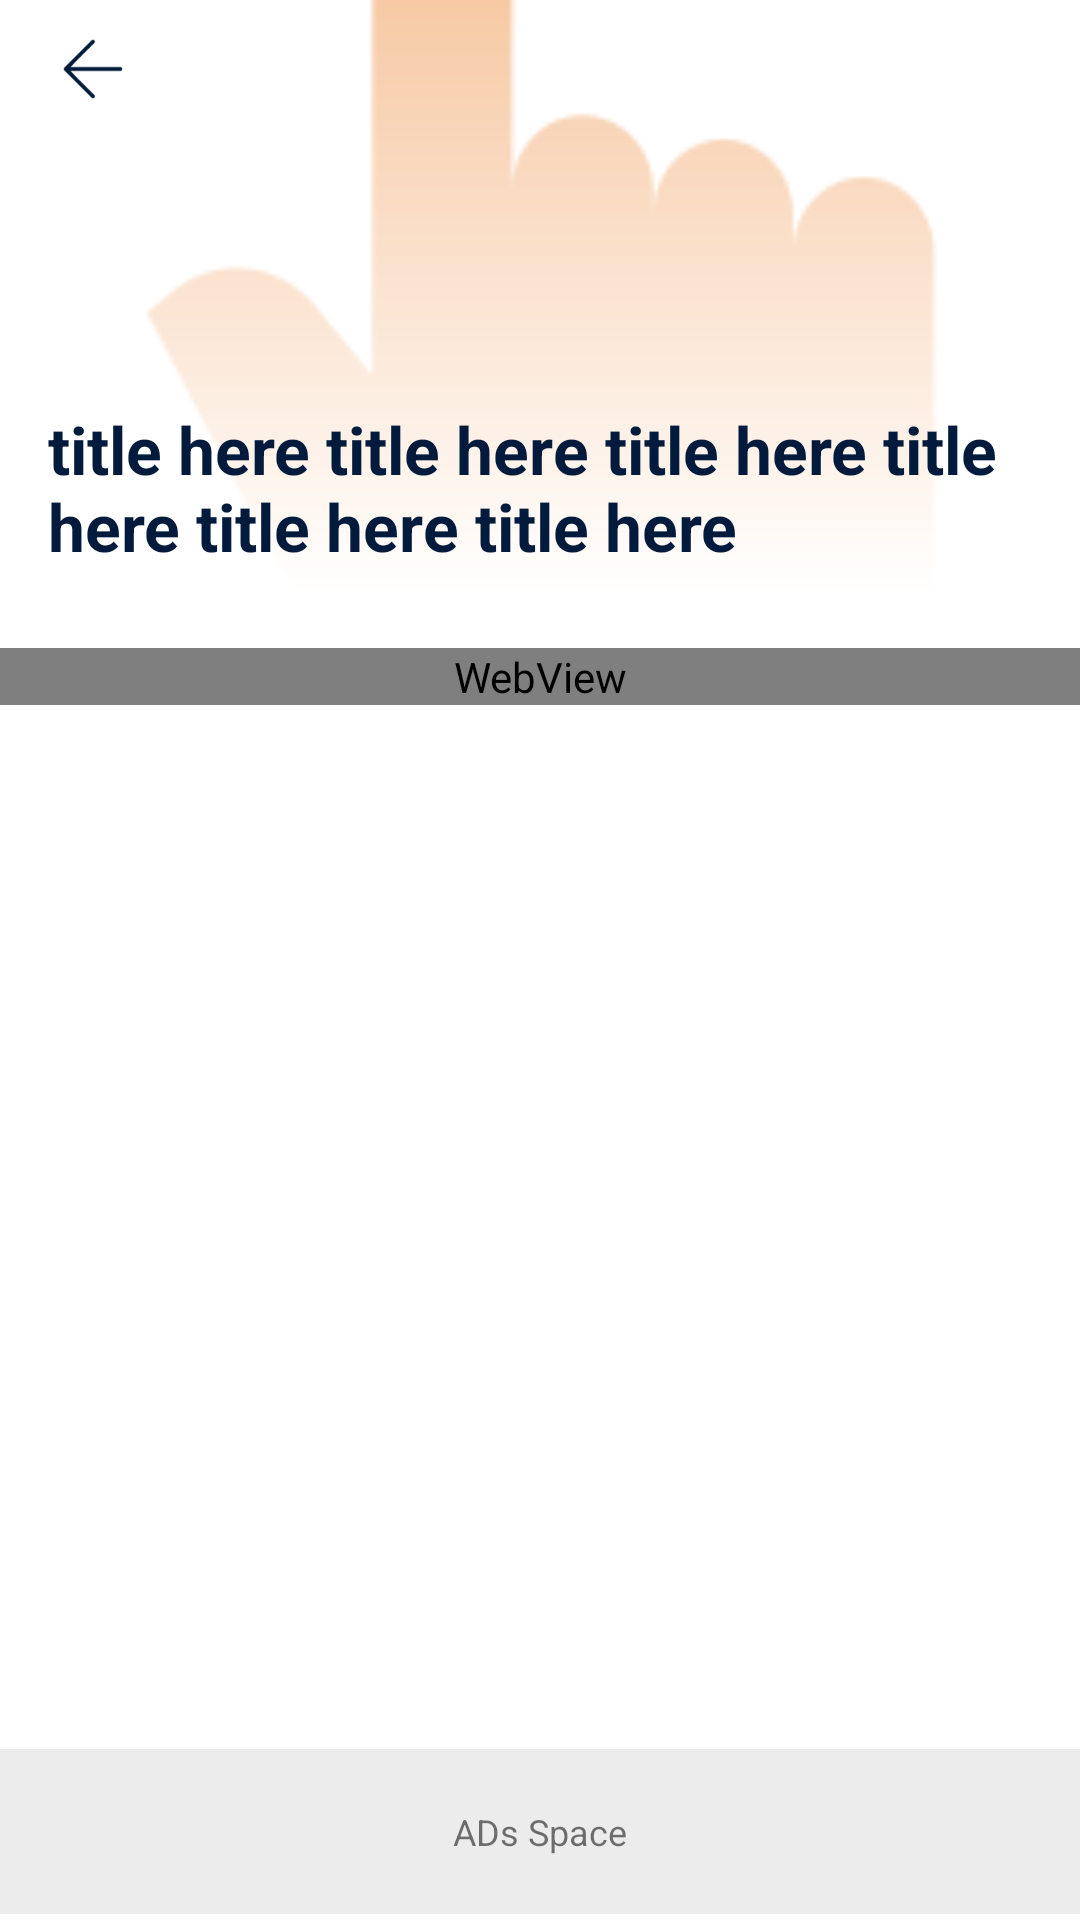

Screen size 1080 × 1920. Icon name, then its center in pixels as (x=x, y=y):
back: (x=93, y=69)
